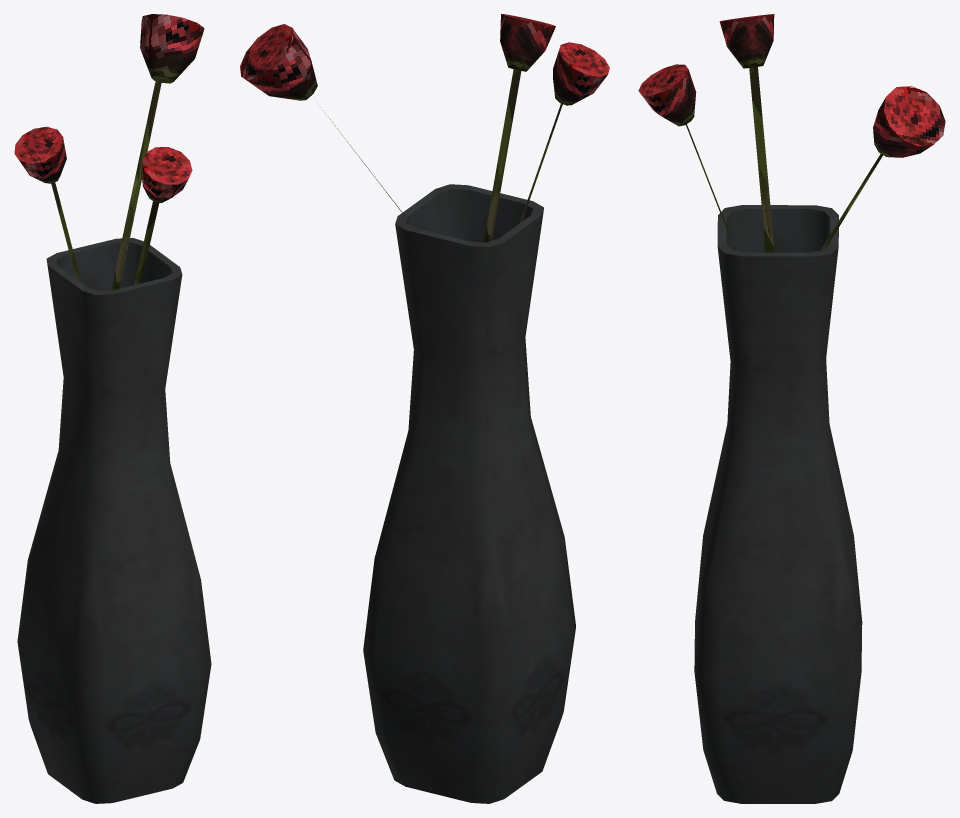
File: dub_rest_flower_vase_lod0.glb
The picture shows the model from 3 angles, left to right: view 1: azimuth 30°, elevation 25°; view 2: azimuth 150°, elevation 25°; view 3: azimuth 270°, elevation 25°; orthographic projection. The views are drawn at different scales.
Parts seen in each view (by area): view 1: surf1, surf0; view 2: surf1, surf0; view 3: surf1, surf0.
Part boxes in pixels (x1,y1,x2,y2): surf1: (17, 238, 211, 803); surf0: (14, 14, 204, 289); surf1: (363, 184, 575, 803); surf0: (240, 14, 609, 242); surf1: (694, 205, 862, 803); surf0: (638, 14, 945, 252).
Size of the model in its own units: 5.58 by 14.39 by 5.36.
